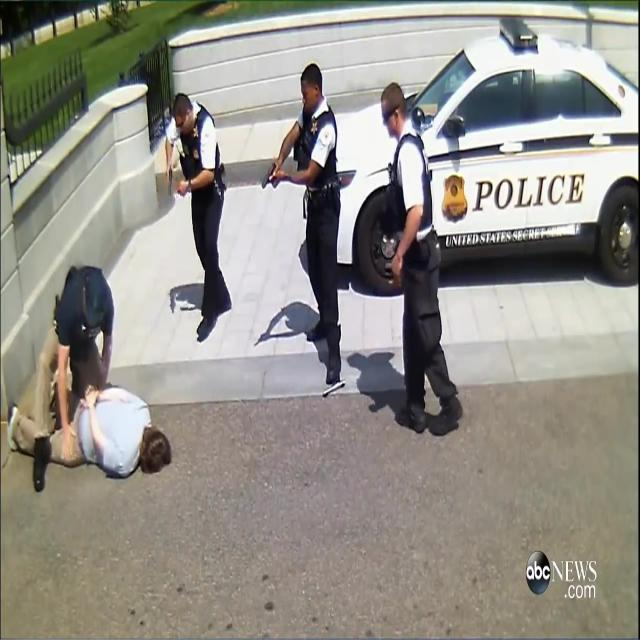Weapon: (252, 145, 302, 221), (151, 152, 191, 200)
